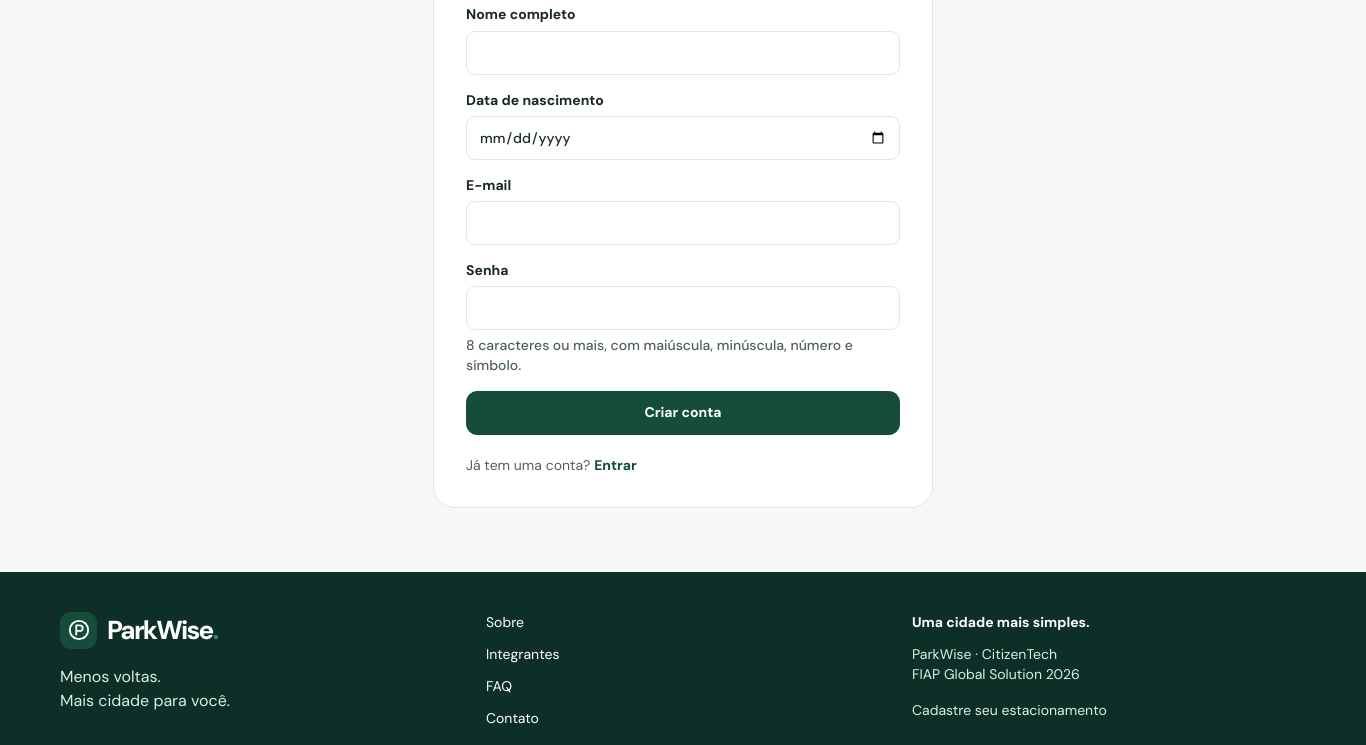
Test: valida o cadastro antes de enviar ao servidor
(page scrolled)
Click the button "Criar conta" at (683, 413), box left=466, top=391, right=900, bottom=435
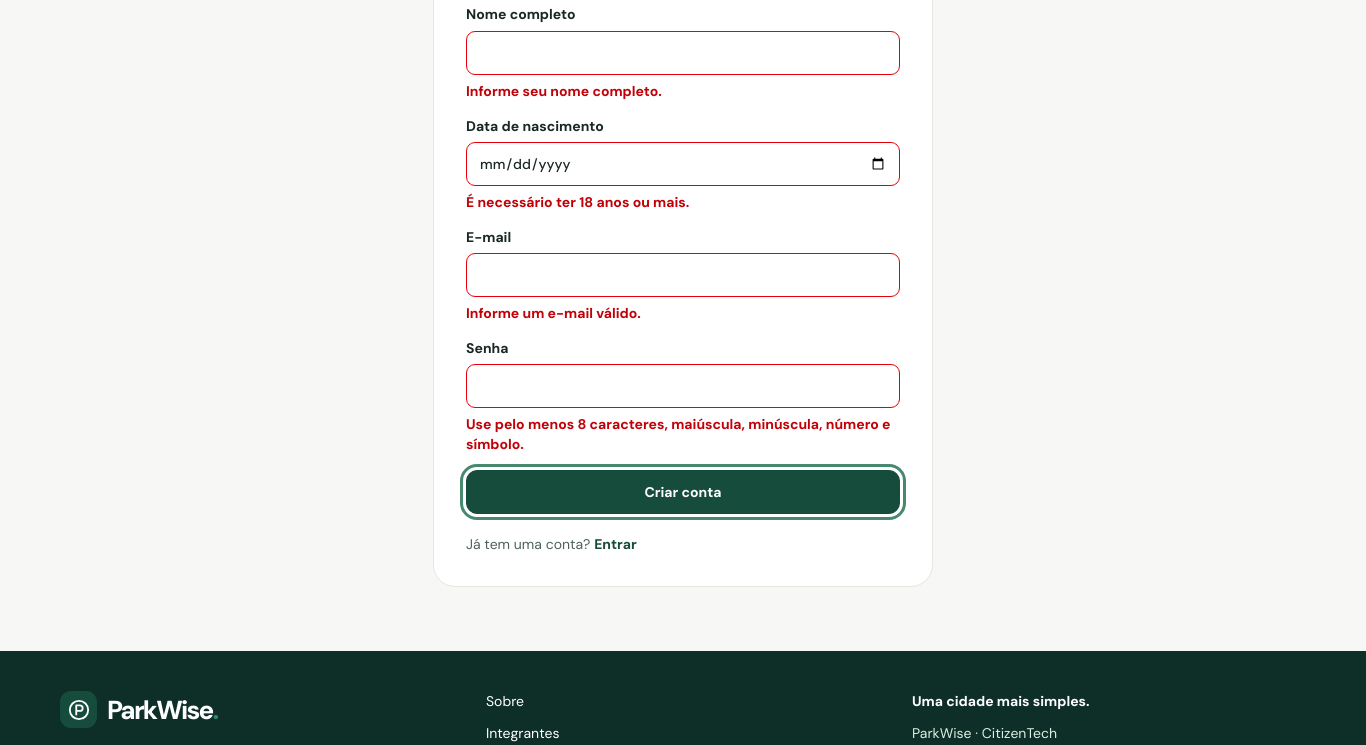
Expected: the text "Informe um e-mail válido." is shown, left=466, top=304, right=641, bottom=322
Expected: the text "É necessário ter 18 anos ou mais." is shown, left=466, top=193, right=689, bottom=211
